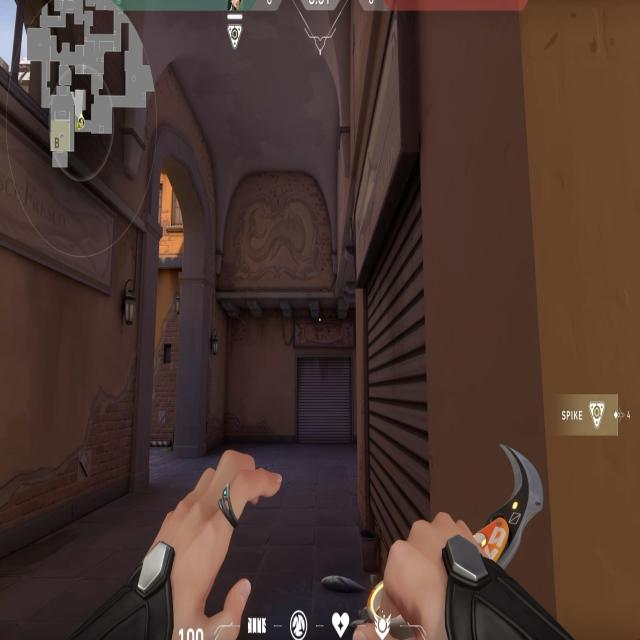B_Main_Corner: (346, 2, 448, 584)
